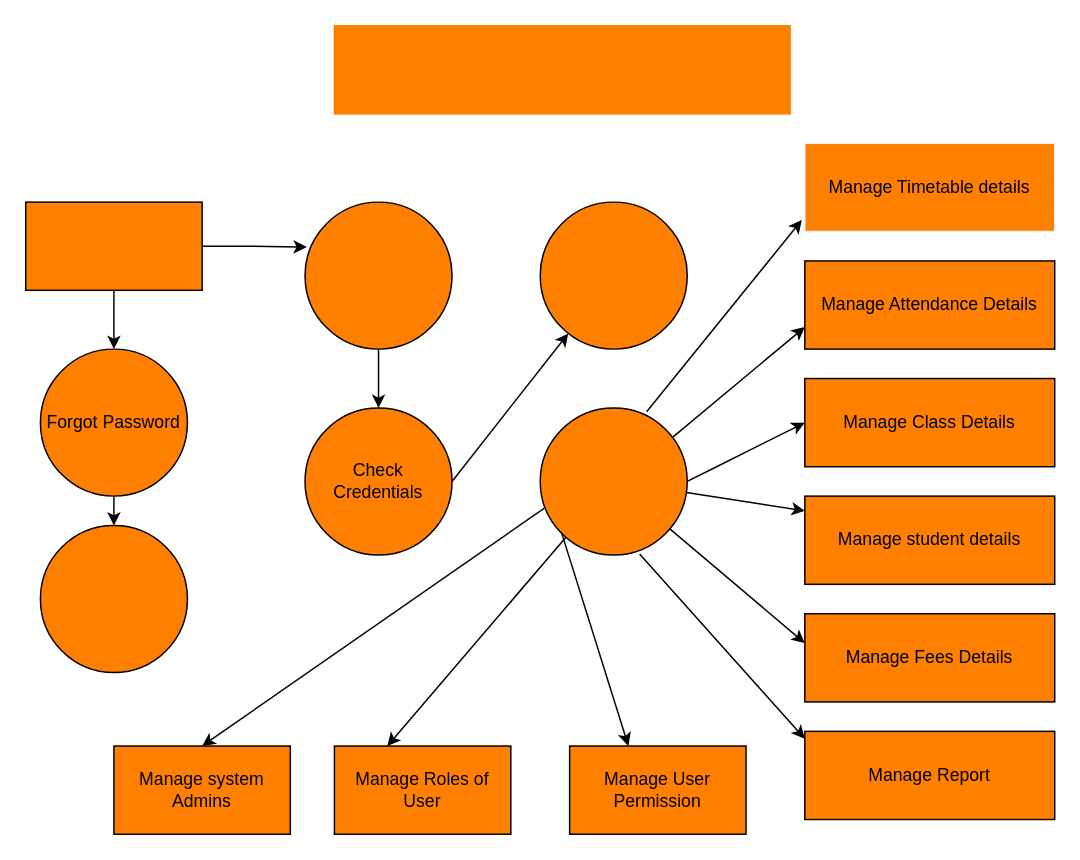
Image size: 1080x860. Some labels were removed from this diagram. The centre of each missing label's shape, as x and y in pixels:
Admin: the point at 113,245
Check roles for access: the point at 613,275
Login to system: the point at 378,275
Manage Modules: the point at 613,480
Send Email to User: the point at 113,598
Student Information System: the point at 561,69
